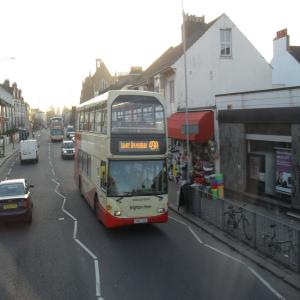Vehicle-registration-plate: (5, 204, 18, 210), (135, 220, 148, 225), (69, 154, 74, 156)
